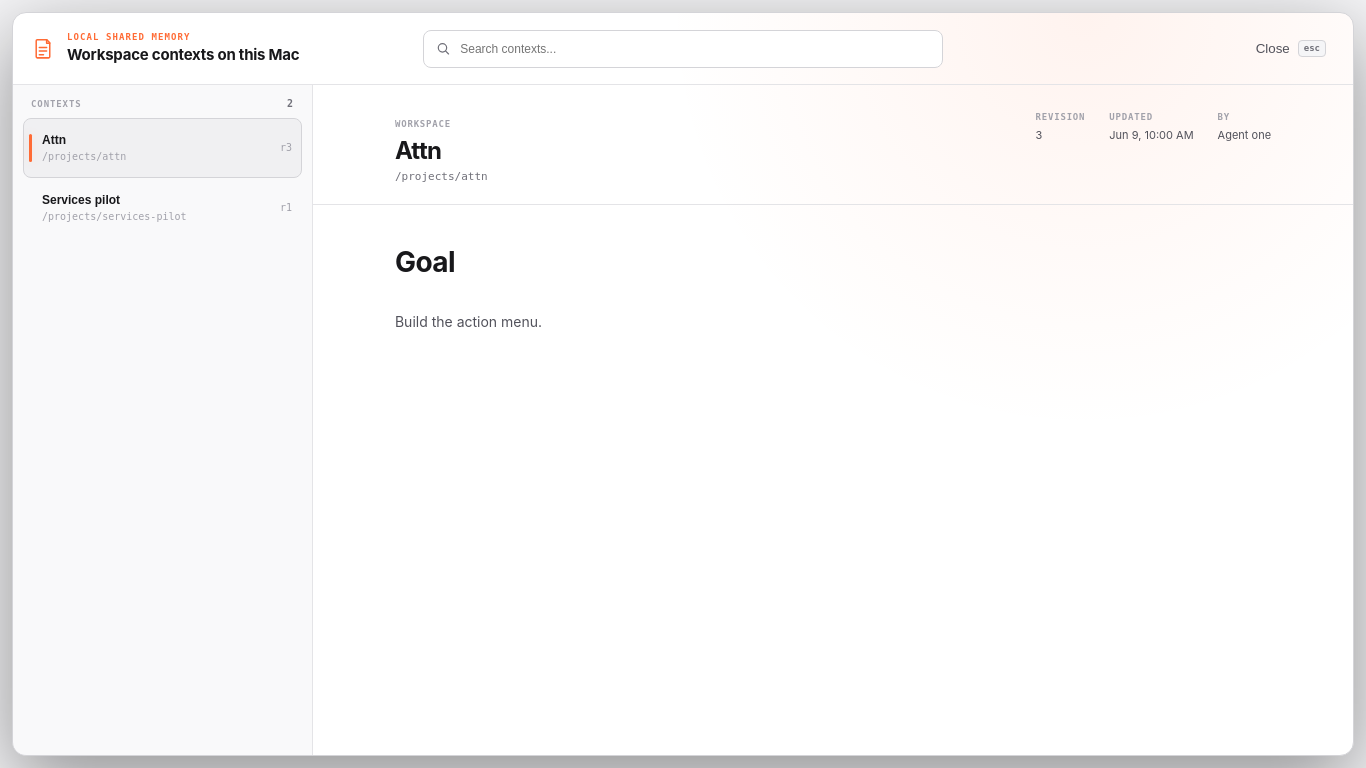
Test: WorkspaceContextNavigator › navigates contexts and renders the selected markdown
Expected: the heading "Goal" is shown, [395,245,455,279]
What coordinates should you click on to do the following:
click the button "Services pilot /projects/services-pilot r1"
I would click on:
 (162, 208)
Its box is [23,178,302,238].
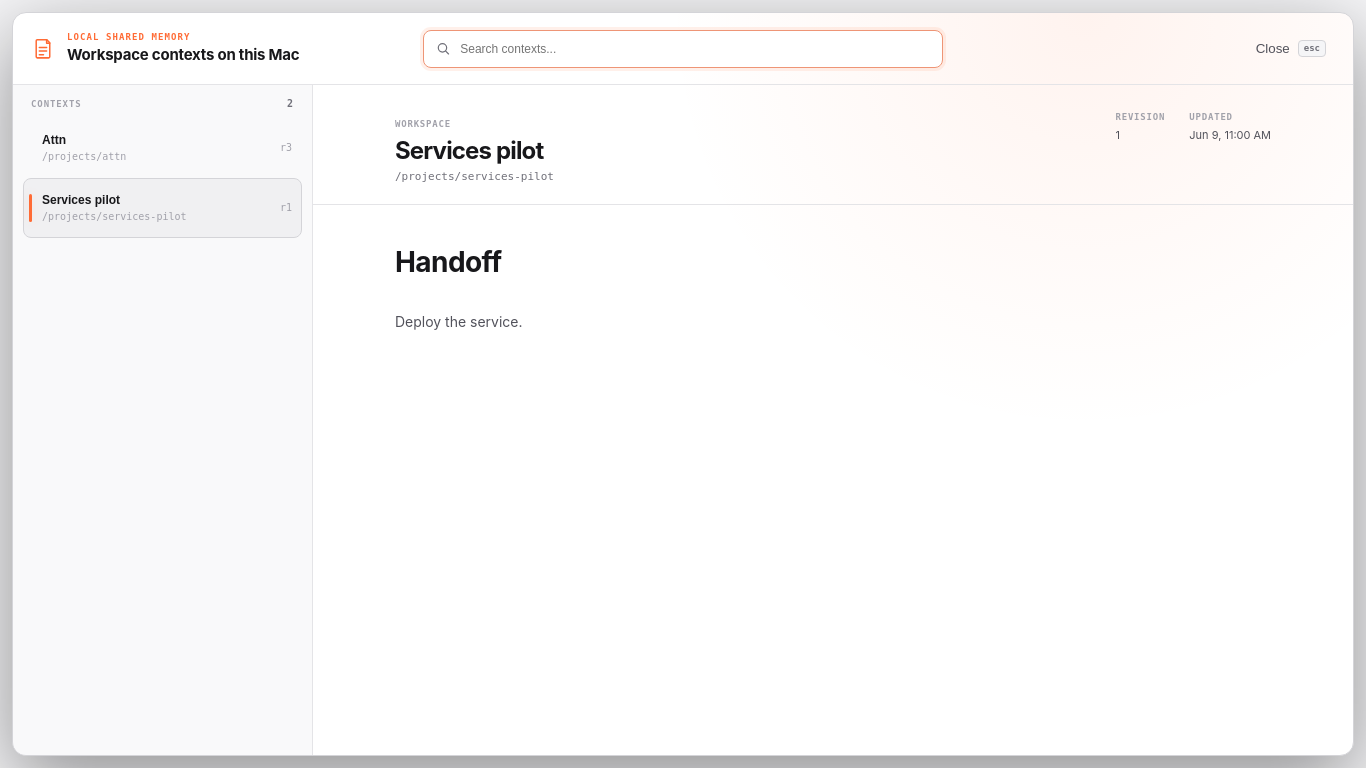
Expected: the heading "Handoff" is shown, [395,245,502,279]
Expected: the text "Deploy the service." is shown, [395,313,523,330]
